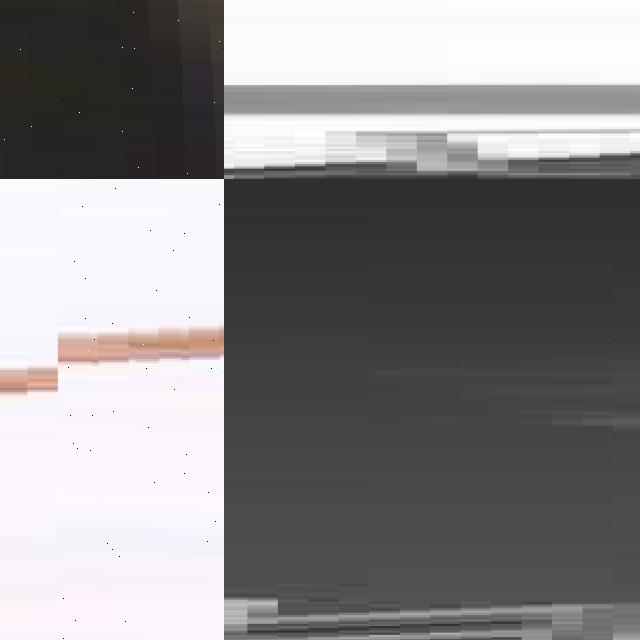street light: (58, 179, 224, 640), (0, 0, 224, 179)
